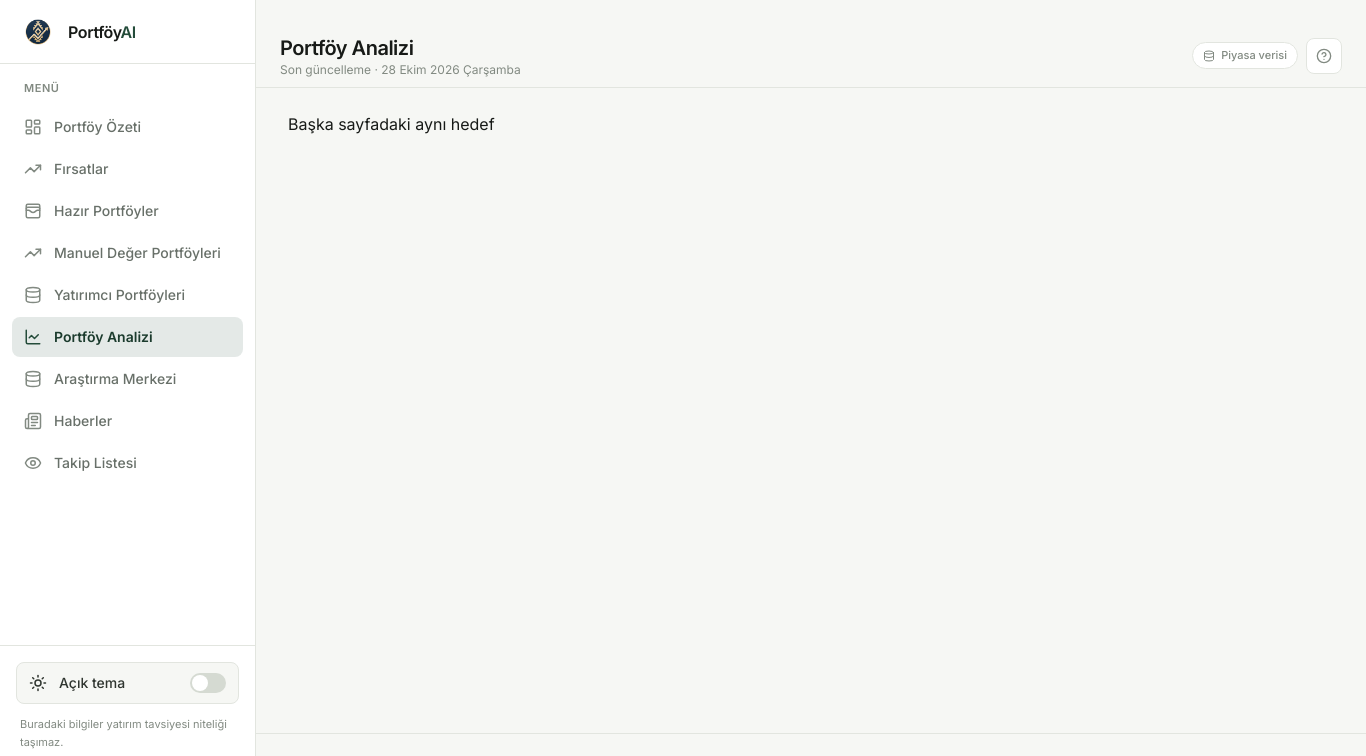
it: tanıtım geçişleri › yükleme sırasında kapatılan tur gecikmeli işlemlerle yeniden açılmaz
Click the button named "Site tanıtım turunu başlat": {"x": 1324, "y": 56} [1306,38,1342,74]
Wait 200 ms
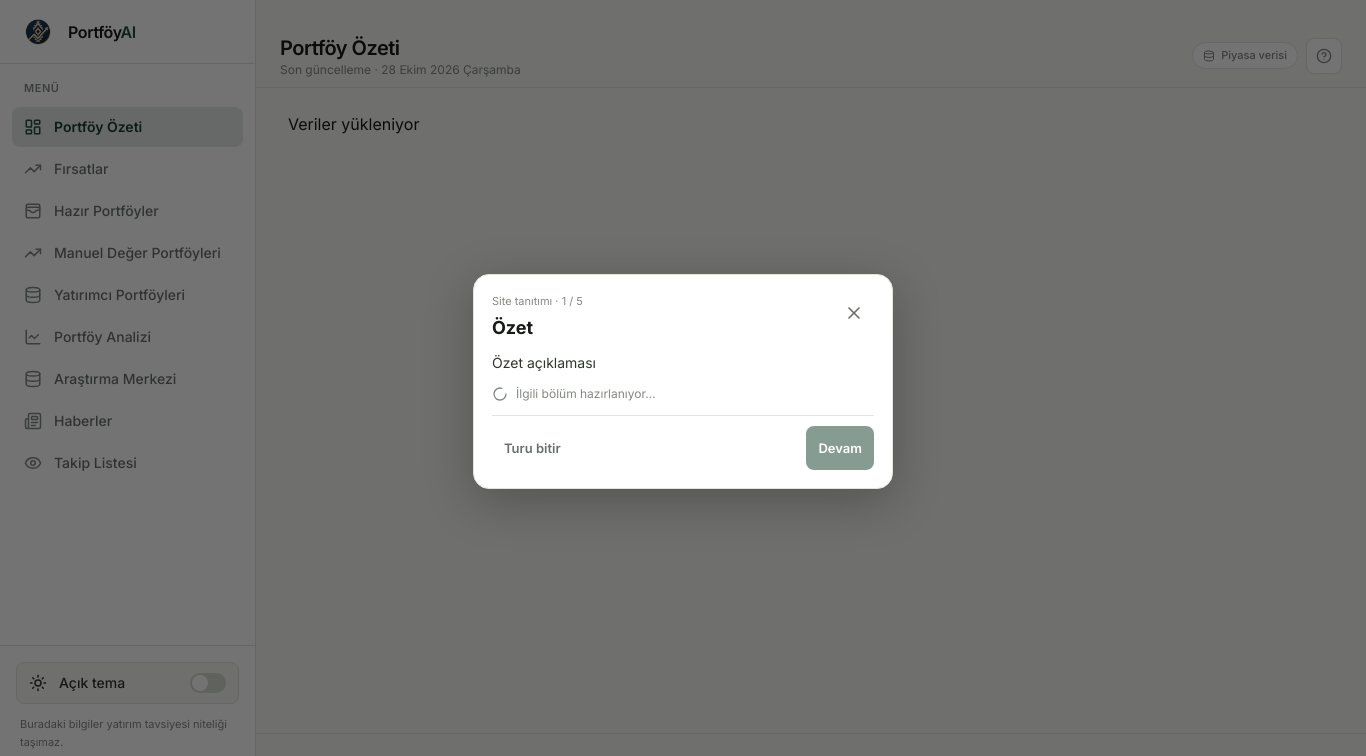
Click the button named "Tanıtımı kapat": {"x": 854, "y": 313} [834,293,874,333]
Wait 15000 ms
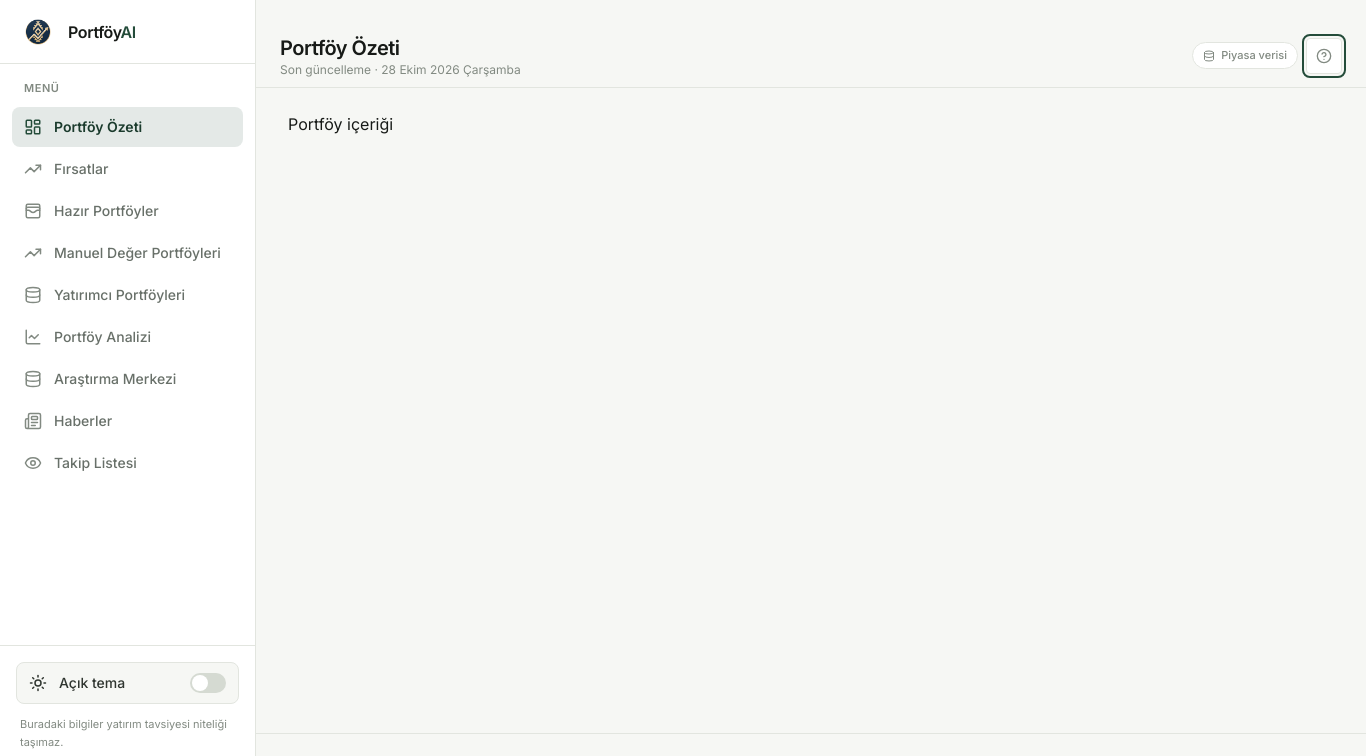
Check: the dialog is gone
